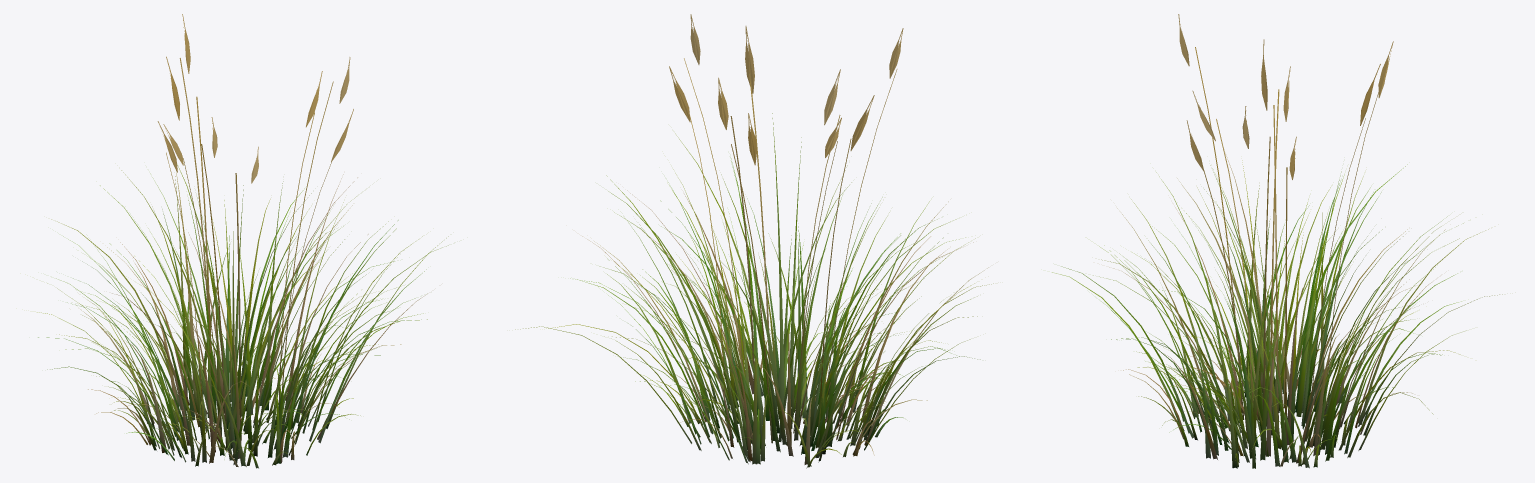
The model's file is tall-grass.glb.
3 renders of one model, left to right at view 1: azimuth 30°, elevation 25°; view 2: azimuth 150°, elevation 25°; view 3: azimuth 270°, elevation 25°, orthographic. The views are drawn at different scales.
Visible parts, largest first — view 1: TallGrass; view 2: TallGrass; view 3: TallGrass.
Part boxes in pixels (bbox=[...]): TallGrass: bbox=[37, 14, 448, 468]; TallGrass: bbox=[515, 14, 993, 468]; TallGrass: bbox=[1052, 14, 1502, 468].
Bounding box in the file's own units: 1.5 × 1.32 × 1.48.
